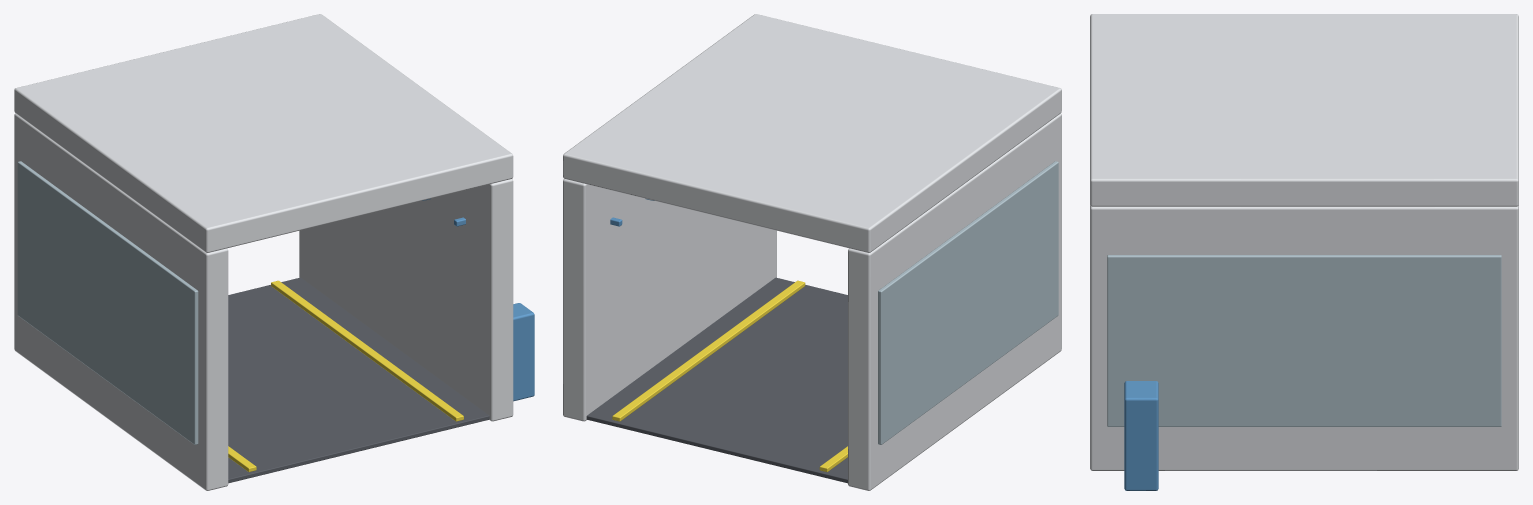
Rendered from water-leak-test-tunnel.glb.
3 views of the same model, side by side, from view 1: azimuth 30°, elevation 25°; view 2: azimuth 150°, elevation 25°; view 3: azimuth 270°, elevation 25° (orthographic). The views are drawn at different scales.
Parts seen in each view (by area): view 1: water-leak-test-tunnel; view 2: water-leak-test-tunnel; view 3: water-leak-test-tunnel.
Part boxes in pixels (left/top/right/bottom): water-leak-test-tunnel: left=14, top=14, right=534, bottom=490; water-leak-test-tunnel: left=563, top=14, right=1061, bottom=490; water-leak-test-tunnel: left=1090, top=14, right=1518, bottom=490.
Size of the model in its own units: 5.21 by 3.76 by 5.
